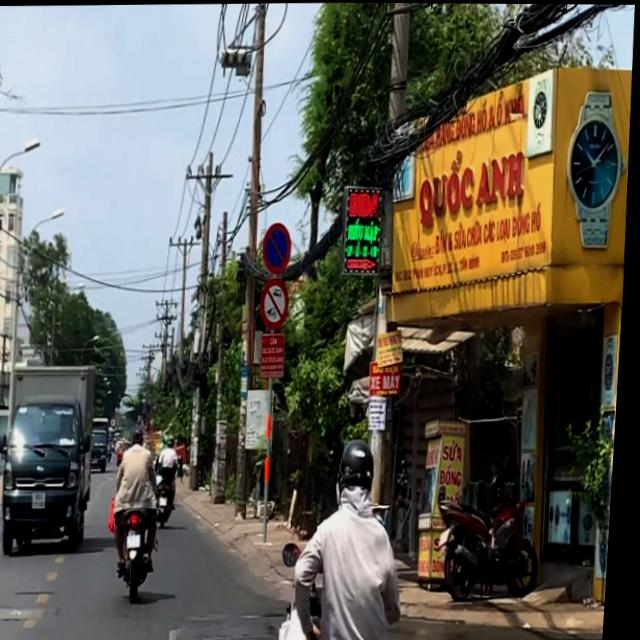Cam do xe: (263, 220, 296, 274)
